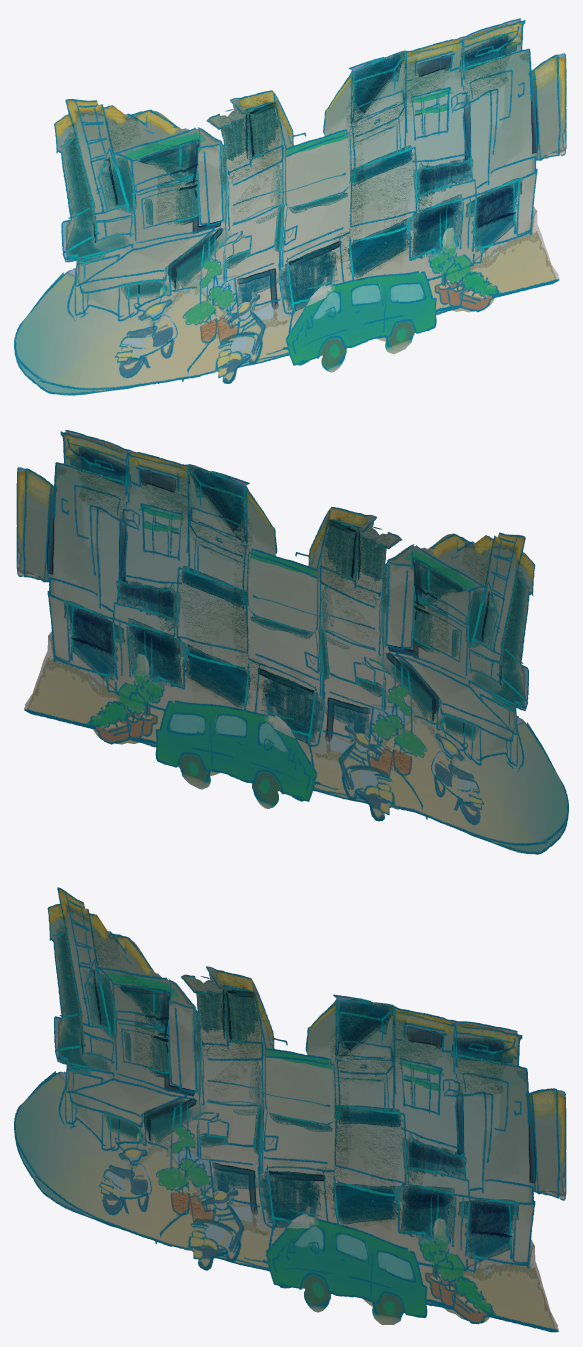
Rendered from house.fbx.
The picture shows the model from 3 angles, top to bottom: view 1: azimuth 30°, elevation 25°; view 2: azimuth 150°, elevation 25°; view 3: azimuth 330°, elevation 25°; orthographic projection. The views are drawn at different scales.
Parts seen in each view (by area): view 1: h11; view 2: h11; view 3: h11.
Part boxes in pixels (x1,y1,x2,y2): h11: (14, 18, 566, 395); h11: (16, 430, 568, 854); h11: (14, 887, 566, 1332).
Bounding box in the file's own units: 20.01 × 11.6 × 1.28.
1 material, 1 textured.
